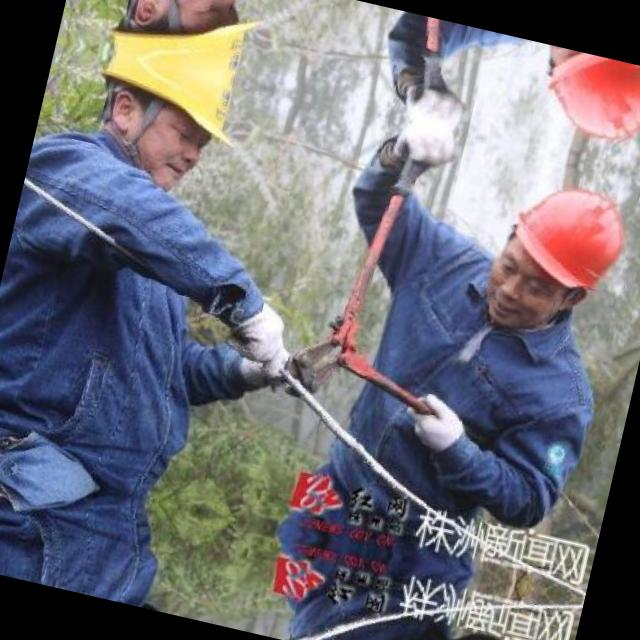helmet: (468, 153, 640, 361), (68, 51, 250, 206), (510, 41, 640, 171), (96, 0, 277, 84)
